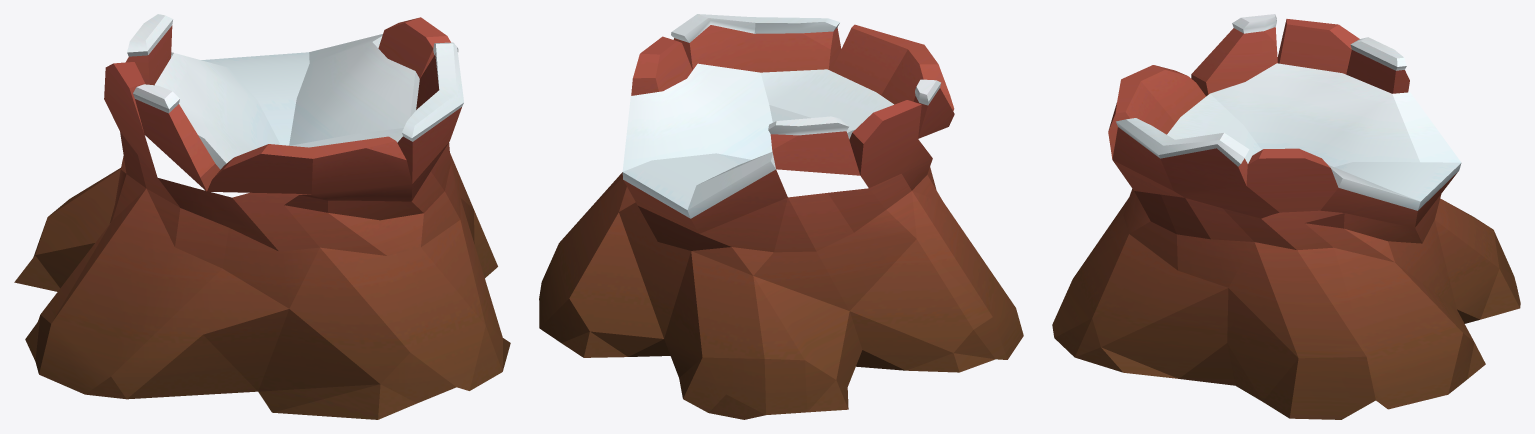
3 renders of one model, left to right at view 1: azimuth 30°, elevation 25°; view 2: azimuth 150°, elevation 25°; view 3: azimuth 270°, elevation 25°, orthographic. The views are drawn at different scales.
Parts seen in each view (by area): view 1: SnowyTreeStump; view 2: SnowyTreeStump; view 3: SnowyTreeStump.
Part boxes in pixels (x1,y1,x2,y2): SnowyTreeStump: (14, 14, 510, 419); SnowyTreeStump: (539, 14, 1023, 419); SnowyTreeStump: (1052, 14, 1520, 419).
Size of the model in its own units: 1.34 by 0.8041 by 1.31.
1 material, 1 textured.
